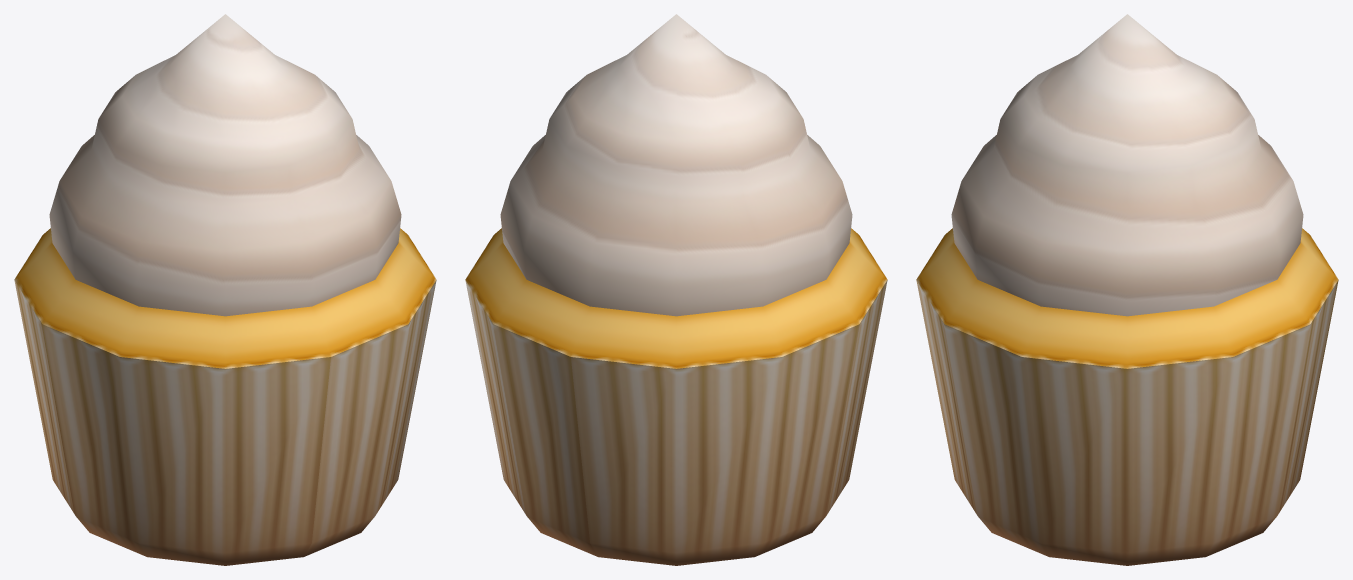
Rendered from 009-Cupcakes_007.FBX.
The picture shows the model from 3 angles, left to right: view 1: azimuth 30°, elevation 25°; view 2: azimuth 150°, elevation 25°; view 3: azimuth 270°, elevation 25°; orthographic projection.
Parts seen in each view (by area): view 1: 009-Cupcakes_007; view 2: 009-Cupcakes_007; view 3: 009-Cupcakes_007.
Part boxes in pixels (x1,y1,x2,y2): 009-Cupcakes_007: (14,14,436,565); 009-Cupcakes_007: (465,14,887,565); 009-Cupcakes_007: (916,14,1338,565).
Size of the model in its own units: 12.34 by 15.65 by 12.34.
